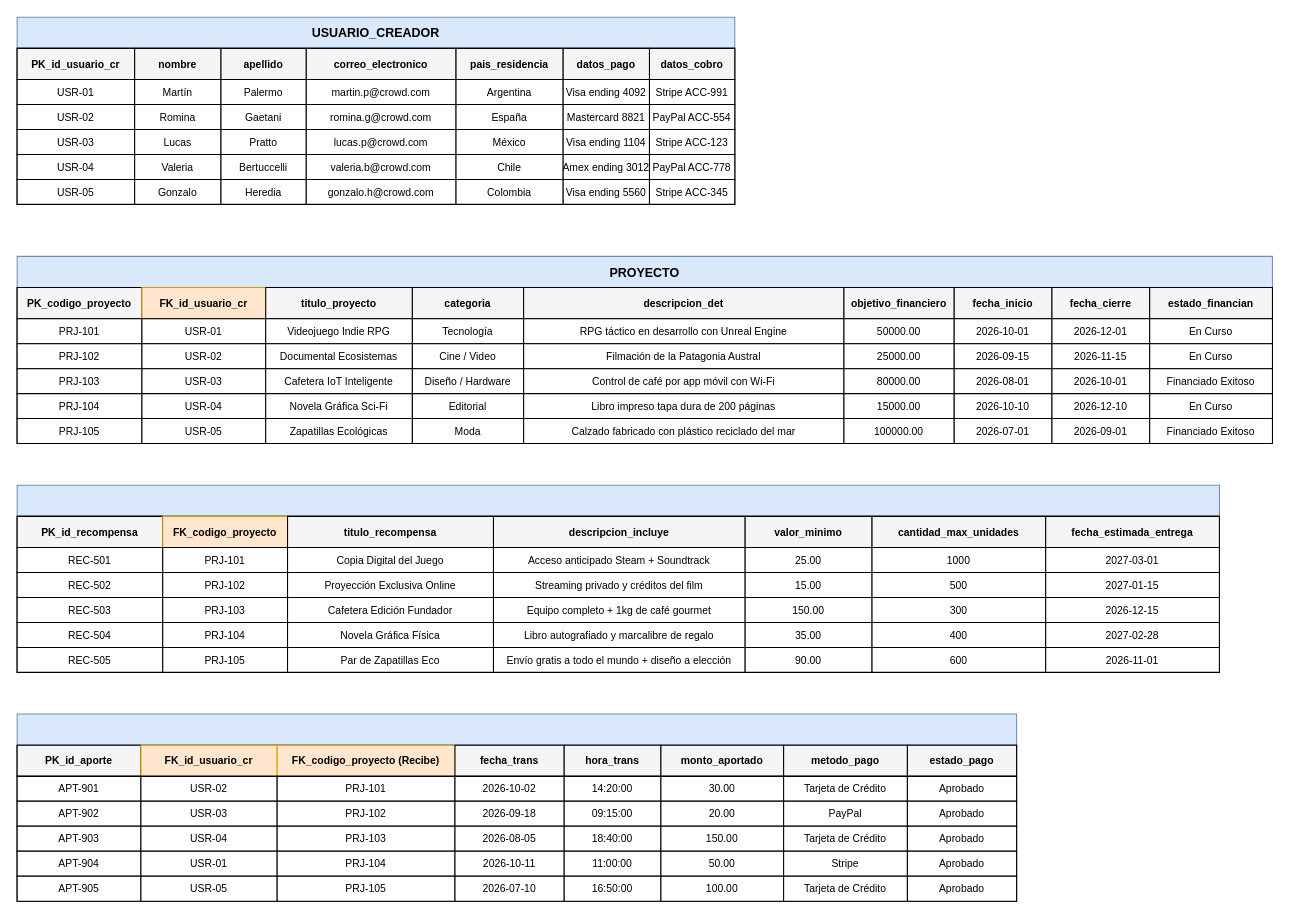
This 1290x918 diagram has some shape labels left out. Each missing label, with the box of its shape:
APORTE_PLEDGE: (16, 713, 1017, 901)
RECOMPENSA_TIER: (16, 484, 1219, 672)
